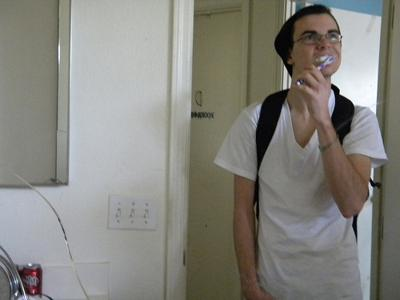person: (217, 4, 388, 300)
